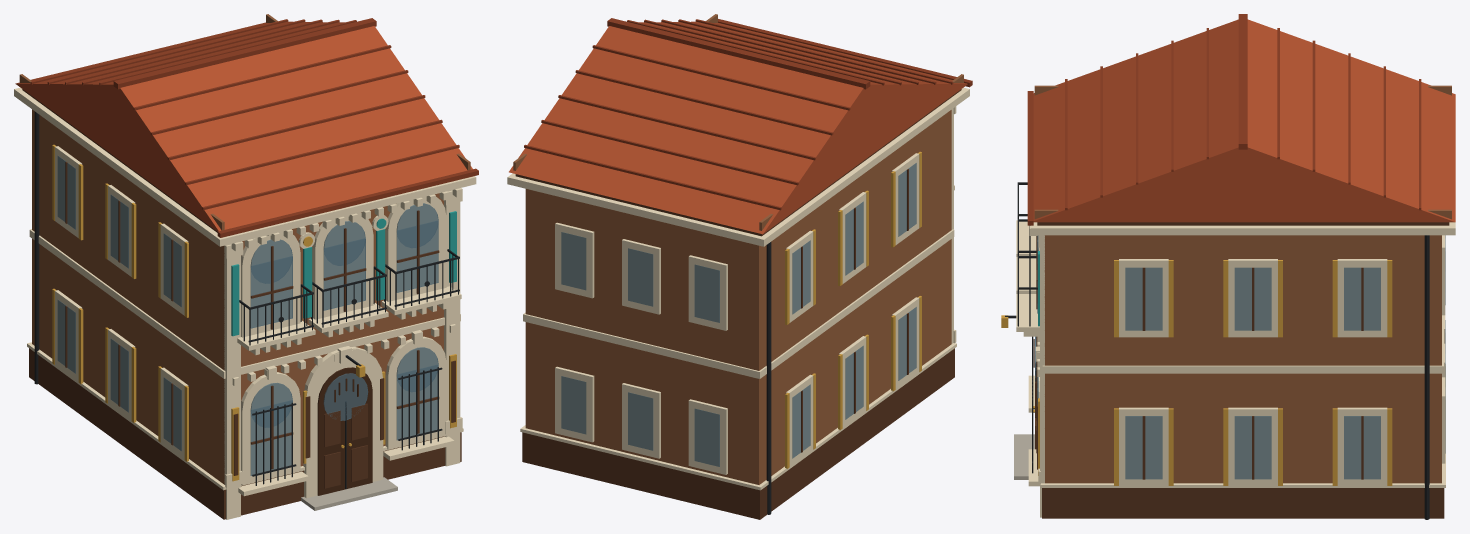
The model's file is casa-cafe.glb.
3 renders of one model, left to right at view 1: azimuth 30°, elevation 25°; view 2: azimuth 150°, elevation 25°; view 3: azimuth 270°, elevation 25°, orthographic. The views are drawn at different scales.
Parts seen in each view (by area): view 1: CasaCafe_Crema, CasaCafe_Teja, CasaCafe_Cafe, CasaCafe_Vidrio, CasaCafe_CafeOscuro, CasaCafe_TejaOscura, CasaCafe_Hierro, CasaCafe_Mostaza, CasaCafe_Madera, CasaCafe_Turquesa, CasaCafe_Piedra; view 2: CasaCafe_Cafe, CasaCafe_Teja, CasaCafe_Crema, CasaCafe_CafeOscuro, CasaCafe_Vidrio, CasaCafe_TejaOscura, CasaCafe_Mostaza, CasaCafe_Hierro; view 3: CasaCafe_Cafe, CasaCafe_Teja, CasaCafe_Crema, CasaCafe_CafeOscuro, CasaCafe_Vidrio, CasaCafe_TejaOscura, CasaCafe_Mostaza, CasaCafe_Hierro, CasaCafe_Piedra.
Boxes of the visible parts, x1,y1,x2,y2 form: CasaCafe_Crema: (14,87,476,519); CasaCafe_Teja: (15,21,472,231); CasaCafe_Cafe: (19,14,470,484); CasaCafe_Vidrio: (57,156,438,475); CasaCafe_CafeOscuro: (22,89,461,519); CasaCafe_TejaOscura: (30,18,478,237); CasaCafe_Hierro: (34,111,459,488); CasaCafe_Mostaza: (52,144,456,481); CasaCafe_Madera: (317,367,372,495); CasaCafe_Turquesa: (231,211,456,336); CasaCafe_Piedra: (301,477,397,510); CasaCafe_Cafe: (513,14,963,484); CasaCafe_Teja: (509,21,967,234); CasaCafe_Crema: (507,87,969,490); CasaCafe_CafeOscuro: (515,89,961,519); CasaCafe_Vidrio: (561,163,916,466); CasaCafe_TejaOscura: (524,18,972,210); CasaCafe_Mostaza: (785,151,921,468); CasaCafe_Hierro: (766,242,771,514); CasaCafe_Cafe: (1034,85,1451,483); CasaCafe_Teja: (1033,19,1455,222); CasaCafe_Crema: (1016,220,1455,517); CasaCafe_CafeOscuro: (1035,222,1449,518); CasaCafe_Vidrio: (1035,235,1445,479); CasaCafe_TejaOscura: (1027,14,1421,225); CasaCafe_Mostaza: (1001,260,1392,485); CasaCafe_Hierro: (1005,182,1429,519); CasaCafe_Piedra: (1014,434,1034,479).
Bounding box in the file's own units: 6.2 × 8.44 × 9.14.
